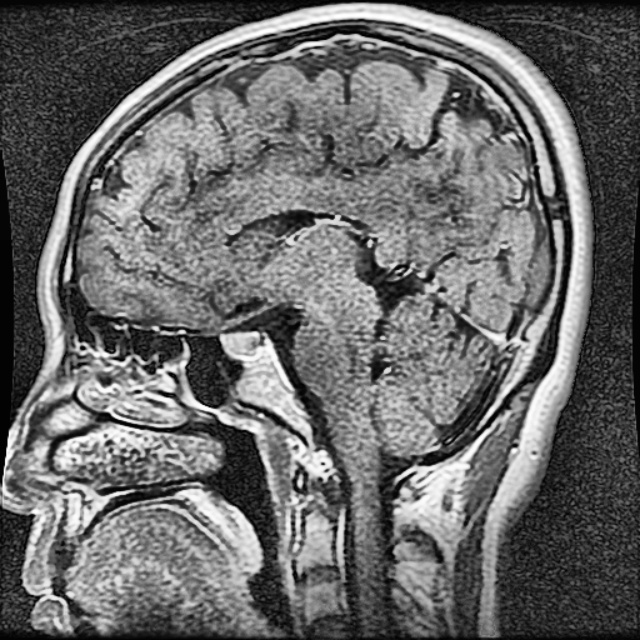Pituitary: (223, 330, 263, 357)
